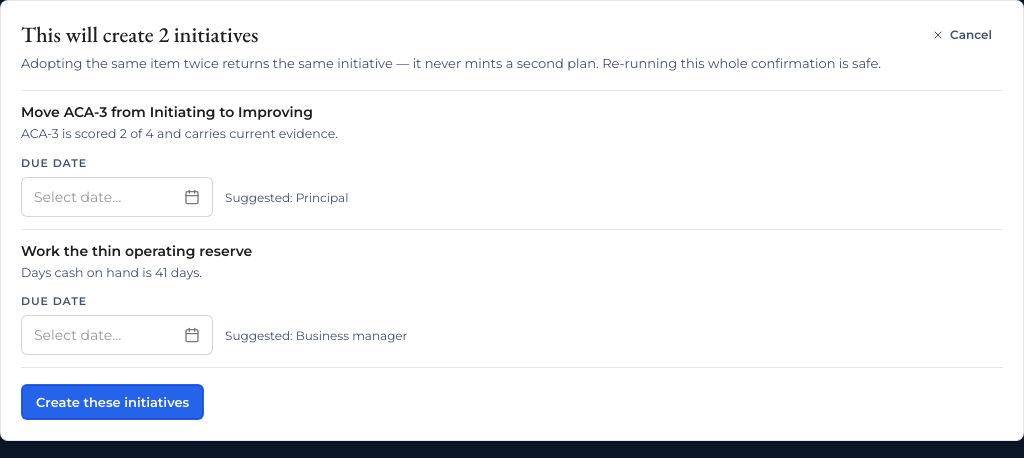
Test case: SPEC-WEB-8 — acceptance 8: a 200 reads "already being worked", never "Created" › a repeat adoption (200) is reported as already being worked
Click the button "Create these initiatives" at coordinates (113, 402), box [21, 384, 204, 420]
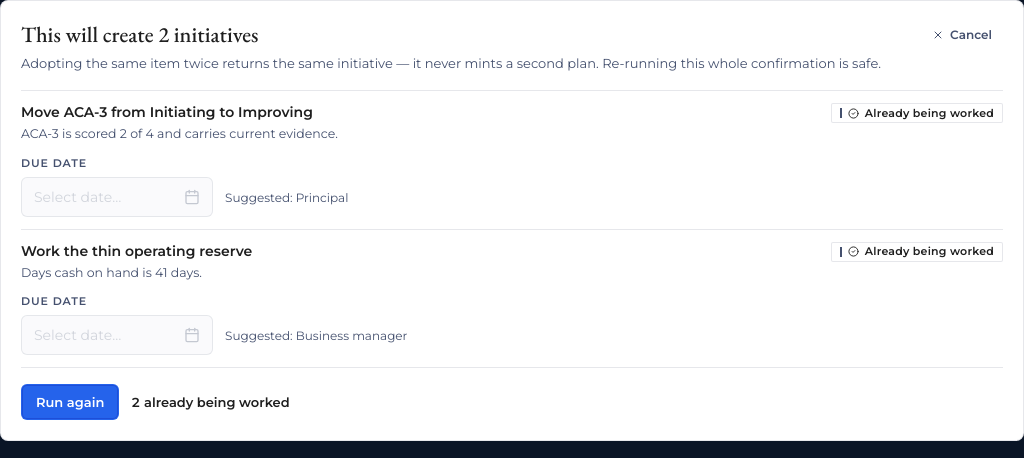
Result: the number of elements with test id "row-existing" is 2 at [831, 103, 1003, 123]; [831, 242, 1003, 262]
Result: the element with test id "row-" reads "Already being worked" at [865, 106, 994, 120]
